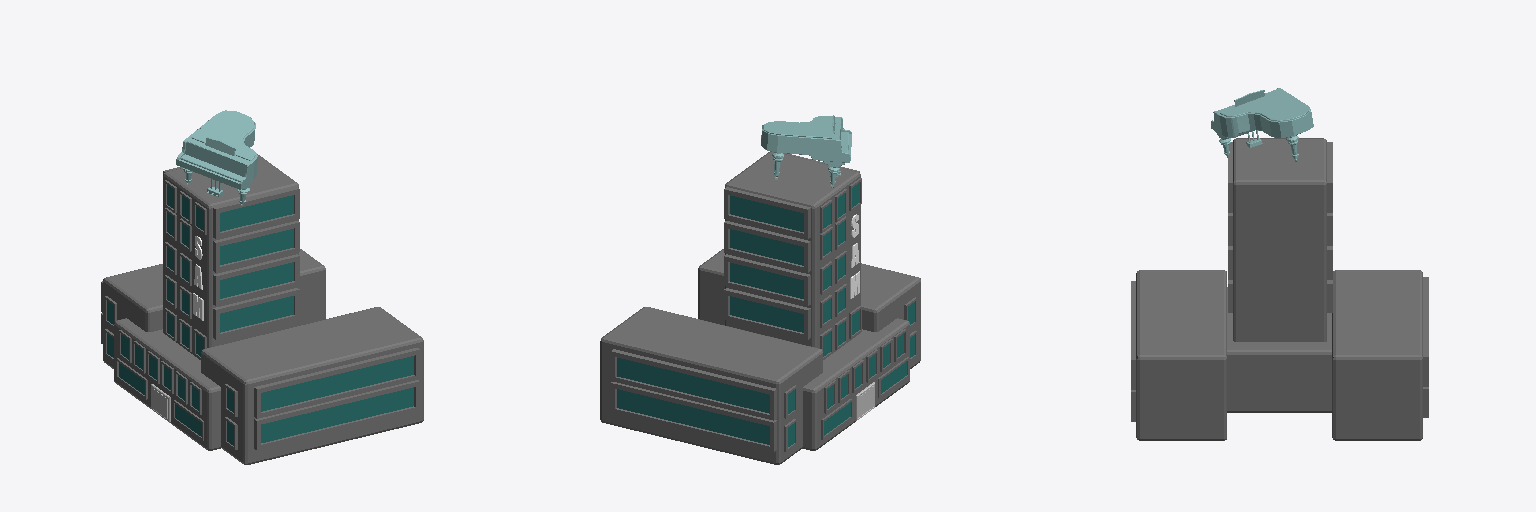
File: SAM.obj
The picture shows the model from 3 angles: view 1: azimuth 30°, elevation 25°; view 2: azimuth 150°, elevation 25°; view 3: azimuth 270°, elevation 25°; orthographic projection.
Visible parts, largest first — view 1: Hill:Hill:Hill:Hill:Hill:Hill:pCube9; view 2: Hill:Hill:Hill:Hill:Hill:Hill:pCube9; view 3: Hill:Hill:Hill:Hill:Hill:Hill:pCube9.
Boxes of the visible parts, <box> form: Hill:Hill:Hill:Hill:Hill:Hill:pCube9: <box>101,110,423,464</box>; Hill:Hill:Hill:Hill:Hill:Hill:pCube9: <box>600,115,920,464</box>; Hill:Hill:Hill:Hill:Hill:Hill:pCube9: <box>1131,88,1428,440</box>.
Size of the model in its own units: 1598 by 2173 by 2121.